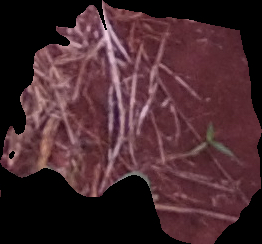soil: (1, 2, 261, 244)
